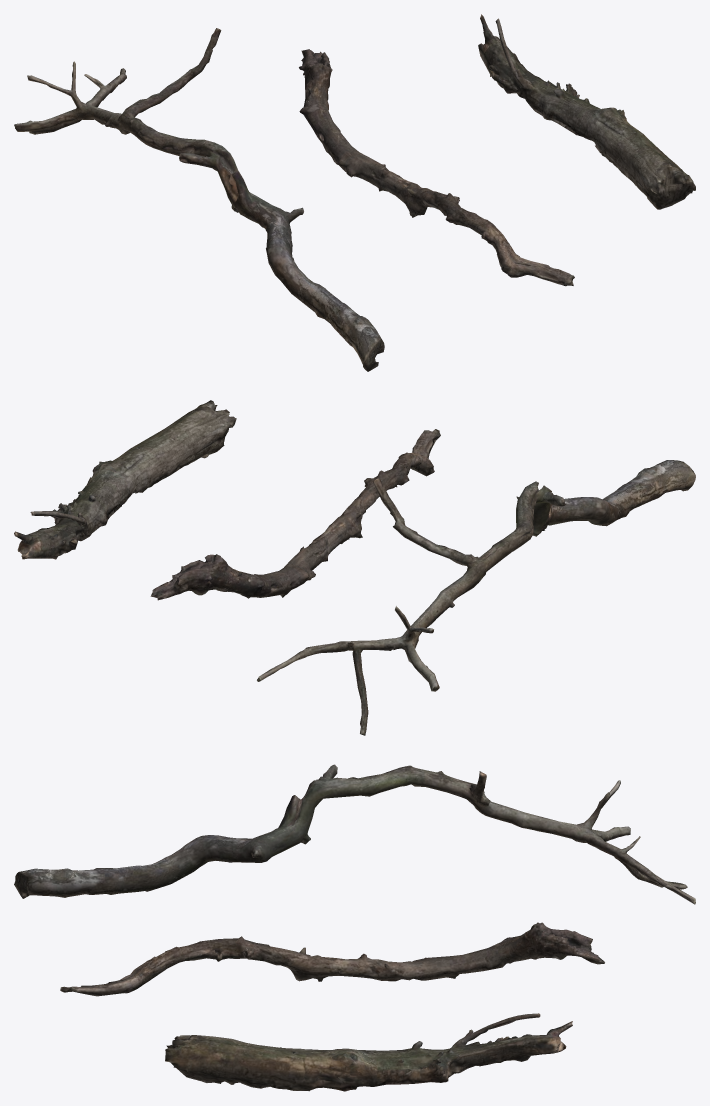
File: dry_branches_medium_01.glb
The picture shows the model from 3 angles, top to bottom: view 1: azimuth 30°, elevation 25°; view 2: azimuth 150°, elevation 25°; view 3: azimuth 270°, elevation 25°; orthographic projection. The views are drawn at different scales.
Visible parts, largest first — view 1: dry_branches_medium_01_a, dry_branches_medium_01_c, dry_branches_medium_01_b; view 2: dry_branches_medium_01_a, dry_branches_medium_01_c, dry_branches_medium_01_b; view 3: dry_branches_medium_01_a, dry_branches_medium_01_c, dry_branches_medium_01_b.
Boxes of the visible parts, x1,y1,x2,y2 form: dry_branches_medium_01_a: [14, 28, 384, 371]; dry_branches_medium_01_c: [478, 14, 695, 209]; dry_branches_medium_01_b: [299, 49, 574, 286]; dry_branches_medium_01_a: [257, 460, 695, 735]; dry_branches_medium_01_c: [14, 400, 236, 559]; dry_branches_medium_01_b: [150, 429, 440, 600]; dry_branches_medium_01_a: [14, 764, 695, 904]; dry_branches_medium_01_c: [165, 1013, 572, 1091]; dry_branches_medium_01_b: [60, 922, 604, 996].
Bounding box in the file's own units: 1.06 × 0.341 × 1.3.
Materials: 1 (1 with a texture image).
